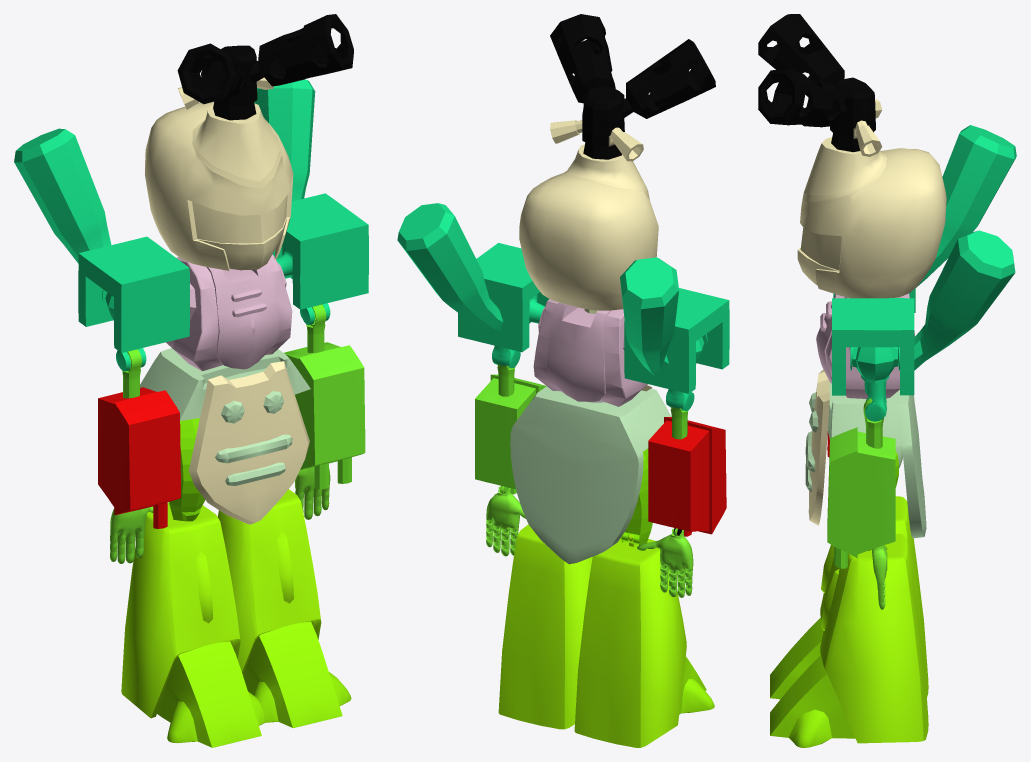
The model's file is a_quarta_e_que_e.fbx.
The picture shows the model from 3 angles, left to right: view 1: azimuth 30°, elevation 25°; view 2: azimuth 150°, elevation 25°; view 3: azimuth 270°, elevation 25°; orthographic projection. The views are drawn at different scales.
Parts seen in each view (by area): view 1: Head, M_Braco_E_LowPoly001, M_AntePerna_D_Low_Poly, M_Escudo_Saia_LowPoly, M_Braco_E_LowPoly005, M_AntePerna_E_Low_Poly, M_Chest_LowPoly, M_AnteBraco_D_Low_Poly, Pe_Metabee_LowPoly_D, M_AnteBraco_E_Low_Poly, Pe_Metabee_LowPoly_E, Saia_Traz_LowPoly (+5 smaller); view 2: Head, Saia_Traz_LowPoly, M_AntePerna_D_Low_Poly, M_AntePerna_E_Low_Poly, M_Braco_E_LowPoly005, M_Braco_E_LowPoly001, M_Chest_LowPoly, M_AnteBraco_D_Low_Poly, M_AnteBraco_E_Low_Poly, Dedo_Mindinho_End_D, M_Perna_D_Low, Pe_Metabee_LowPoly_D (+3 smaller); view 3: Head, M_AntePerna_E_Low_Poly, M_Braco_E_LowPoly005, M_AnteBraco_E_Low_Poly, M_Braco_E_LowPoly001, Saia_Traz_LowPoly, Pe_Metabee_LowPoly_E, M_Escudo_Saia_LowPoly, Arm_E, M_Chest_LowPoly, Pe_Metabee_LowPoly_D, M_AntePerna_D_Low_Poly (+2 smaller).
Boxes of the visible parts, box(x1,y1,x2,y2) form: Head: box(145, 14, 353, 270); M_Braco_E_LowPoly001: box(14, 128, 189, 352); M_AntePerna_D_Low_Poly: box(121, 502, 240, 718); M_Escudo_Saia_LowPoly: box(189, 361, 309, 524); M_Braco_E_LowPoly005: box(254, 79, 368, 309); M_AntePerna_E_Low_Poly: box(218, 489, 321, 676); M_Chest_LowPoly: box(166, 254, 292, 370); M_AnteBraco_D_Low_Poly: box(98, 387, 180, 528); Pe_Metabee_LowPoly_D: box(157, 641, 264, 747); M_AnteBraco_E_Low_Poly: box(284, 342, 365, 489); Pe_Metabee_LowPoly_E: box(243, 621, 351, 728); Saia_Traz_LowPoly: box(140, 348, 310, 420); Head: box(519, 14, 715, 310); Saia_Traz_LowPoly: box(510, 386, 671, 564); M_AntePerna_D_Low_Poly: box(574, 534, 686, 747); M_AntePerna_E_Low_Poly: box(498, 524, 592, 729); M_Braco_E_LowPoly005: box(397, 203, 548, 352); M_Braco_E_LowPoly001: box(620, 257, 729, 393); M_Chest_LowPoly: box(533, 299, 647, 406); M_AnteBraco_D_Low_Poly: box(648, 417, 726, 536); M_AnteBraco_E_Low_Poly: box(475, 374, 546, 494); Dedo_Mindinho_End_D: box(637, 528, 693, 597); M_Perna_D_Low: box(621, 449, 652, 545); Pe_Metabee_LowPoly_D: box(679, 656, 714, 714); Head: box(758, 14, 946, 298); M_AntePerna_E_Low_Poly: box(820, 534, 928, 743); M_Braco_E_LowPoly005: box(832, 230, 1015, 395); M_AnteBraco_E_Low_Poly: box(827, 427, 895, 568); M_Braco_E_LowPoly001: box(833, 125, 1016, 312); Saia_Traz_LowPoly: box(828, 382, 926, 538); Pe_Metabee_LowPoly_E: box(770, 655, 855, 747); M_Escudo_Saia_LowPoly: box(805, 369, 829, 525); Arm_E: box(850, 347, 899, 421); M_Chest_LowPoly: box(816, 293, 914, 398); Pe_Metabee_LowPoly_D: box(770, 617, 823, 699); M_AntePerna_D_Low_Poly: box(820, 496, 928, 696).
Size of the model in its own units: 187 by 425 by 150.
